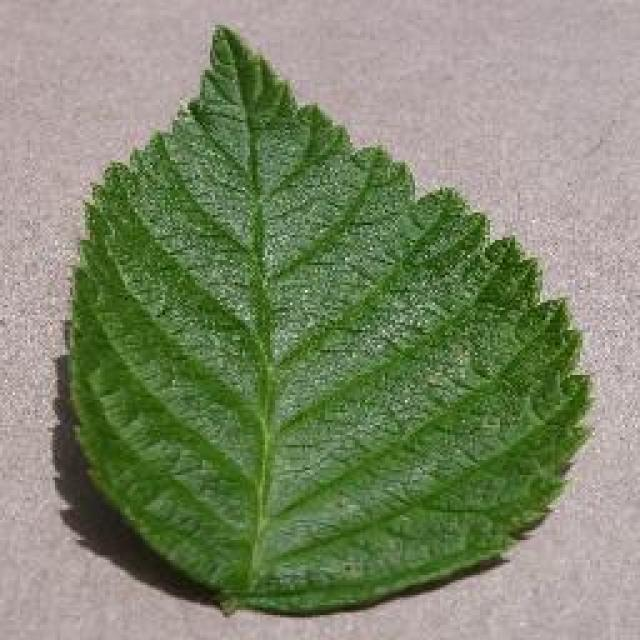Ras_healthy: (63, 144, 554, 566)
